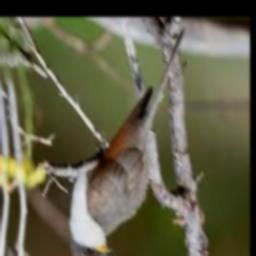Cuckoo: (67, 26, 186, 256)
